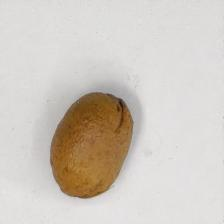NG: (101, 90, 131, 134)
